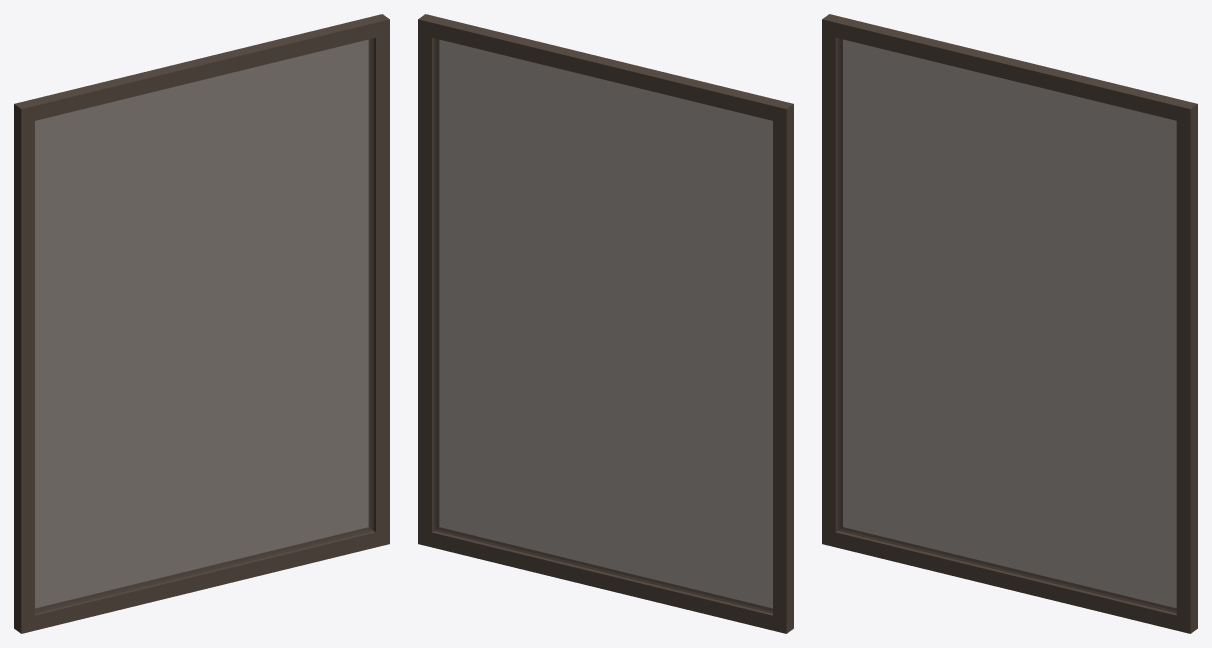
File: Door_Entrance_R.glb
3 views of the same model, side by side, from view 1: azimuth 30°, elevation 25°; view 2: azimuth 150°, elevation 25°; view 3: azimuth 330°, elevation 25° (orthographic).
Parts seen in each view (by area): view 1: DoorRight; view 2: DoorRight; view 3: DoorRight.
Boxes of the visible parts, x1,y1,x2,y2 form: DoorRight: (14, 14, 389, 633); DoorRight: (418, 14, 793, 633); DoorRight: (822, 14, 1197, 633).
Size of what is drawn, in the model's own units: 3.98 by 5.41 by 0.1366.
Materials: 2 (2 with a texture image).
